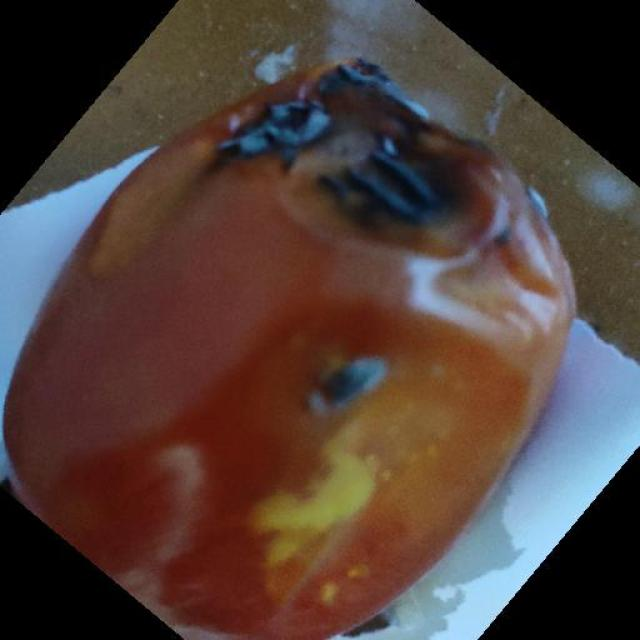Stale_tomato: (33, 80, 546, 623)
